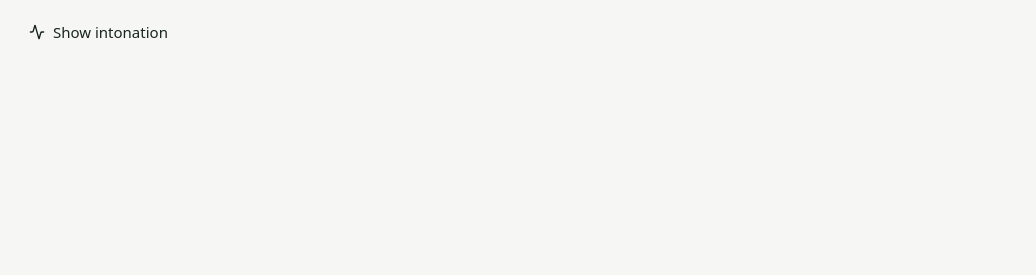
Scenario: lists phrase endings as text and jumps to one from the keyboard
The image size is (1036, 275).
Later steps or results of the test are not shown.
Click the button "Show intonation" at coordinates (98, 32), box [12,12,185,52]
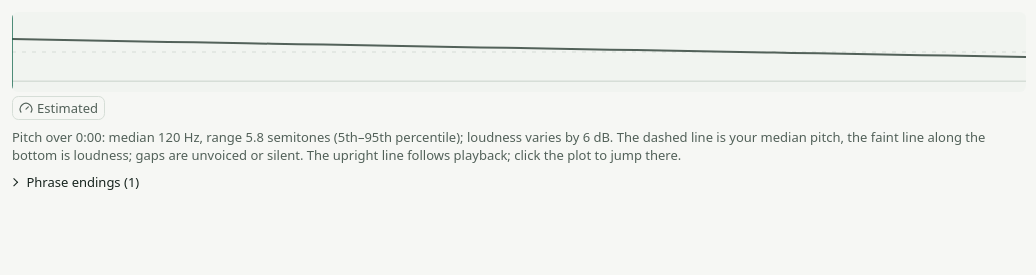
Click the heading "Phrase endings (1)" at coordinates (76, 183), box [12,169,139,197]
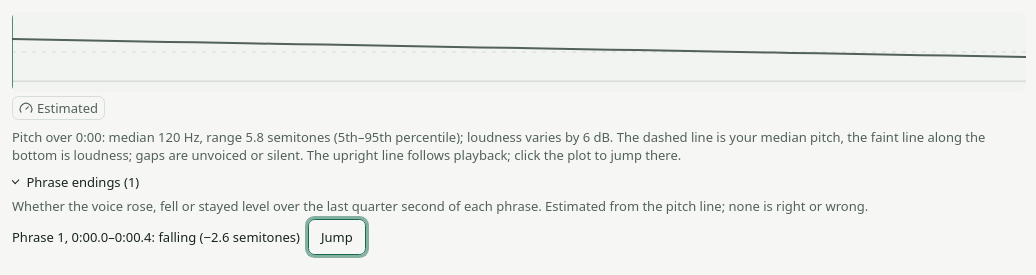
Check: the text "Phrase 1, 0:00.0–0:00.4: falling (−2.6 semitones)" is shown, box [12,228,300,246]
